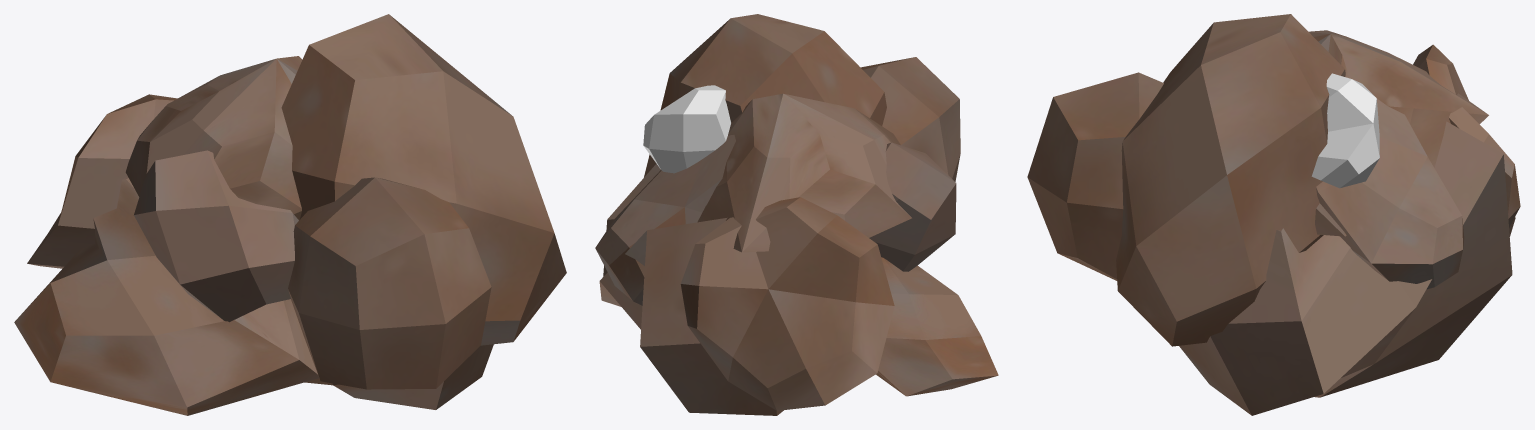
File: rubble_2.fbx
The picture shows the model from 3 angles, left to right: view 1: azimuth 30°, elevation 25°; view 2: azimuth 150°, elevation 25°; view 3: azimuth 270°, elevation 25°; orthographic projection. The views are drawn at different scales.
Visible parts, largest first — view 1: rock.003, rock.009, rock.004, rock.006, rock.008, rock.001, rock.005; view 2: rock.001, rock.008, rock.003, rock.005, rock.009, rock.002, rock.006, rock.004, rock; view 3: rock.003, rock.005, rock.004, rock.002, rock.008, rock, rock.001.
Part boxes in pixels (bbox=[...]): rock.003: bbox=[281, 14, 566, 345]; rock.009: bbox=[14, 176, 318, 415]; rock.004: bbox=[288, 177, 491, 389]; rock.006: bbox=[134, 150, 298, 322]; rock.008: bbox=[125, 56, 302, 220]; rock.001: bbox=[27, 94, 177, 268]; rock.005: bbox=[304, 344, 493, 409]; rock.001: bbox=[680, 197, 894, 410]; rock.008: bbox=[697, 93, 911, 252]; rock.003: bbox=[644, 14, 886, 177]; rock.005: bbox=[599, 164, 783, 415]; rock.009: bbox=[876, 257, 998, 396]; rock.002: bbox=[595, 135, 735, 305]; rock.006: bbox=[869, 142, 956, 271]; rock.004: bbox=[860, 57, 960, 181]; rock: bbox=[643, 85, 730, 173]; rock.003: bbox=[1116, 14, 1345, 346]; rock.005: bbox=[1179, 121, 1512, 415]; rock.004: bbox=[1027, 72, 1163, 280]; rock.002: bbox=[1316, 98, 1464, 289]; rock.008: bbox=[1309, 30, 1488, 236]; rock: bbox=[1311, 73, 1379, 188]; rock.001: bbox=[1413, 44, 1520, 236].
Size of the model in its own units: 192 by 163 by 196.
